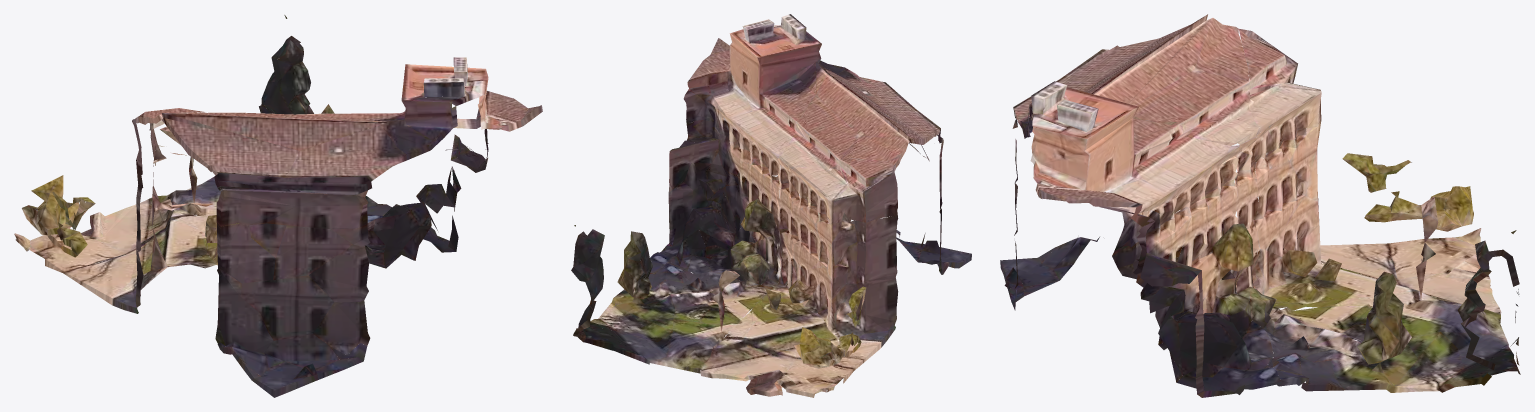
3 views of the same model, side by side, from view 1: azimuth 30°, elevation 25°; view 2: azimuth 150°, elevation 25°; view 3: azimuth 270°, elevation 25° (orthographic). The views are drawn at different scales.
Visible parts, largest first — view 1: Mesh_0; view 2: Mesh_0; view 3: Mesh_0.
Part boxes in pixels (x1,y1,x2,y2): Mesh_0: [14, 15, 542, 397]; Mesh_0: [571, 14, 971, 397]; Mesh_0: [1000, 14, 1520, 397].
Size of the model in its own units: 33.49 by 25.69 by 41.35.
Materials: 2 (2 with a texture image).
